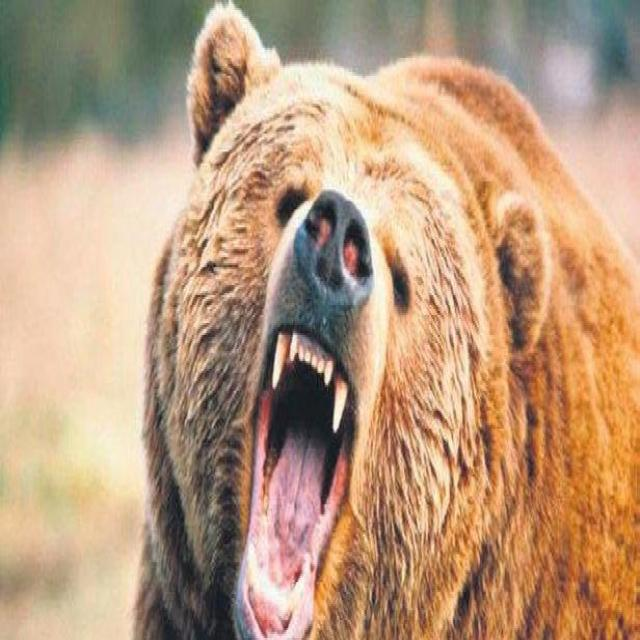Bear: (130, 2, 640, 640)
